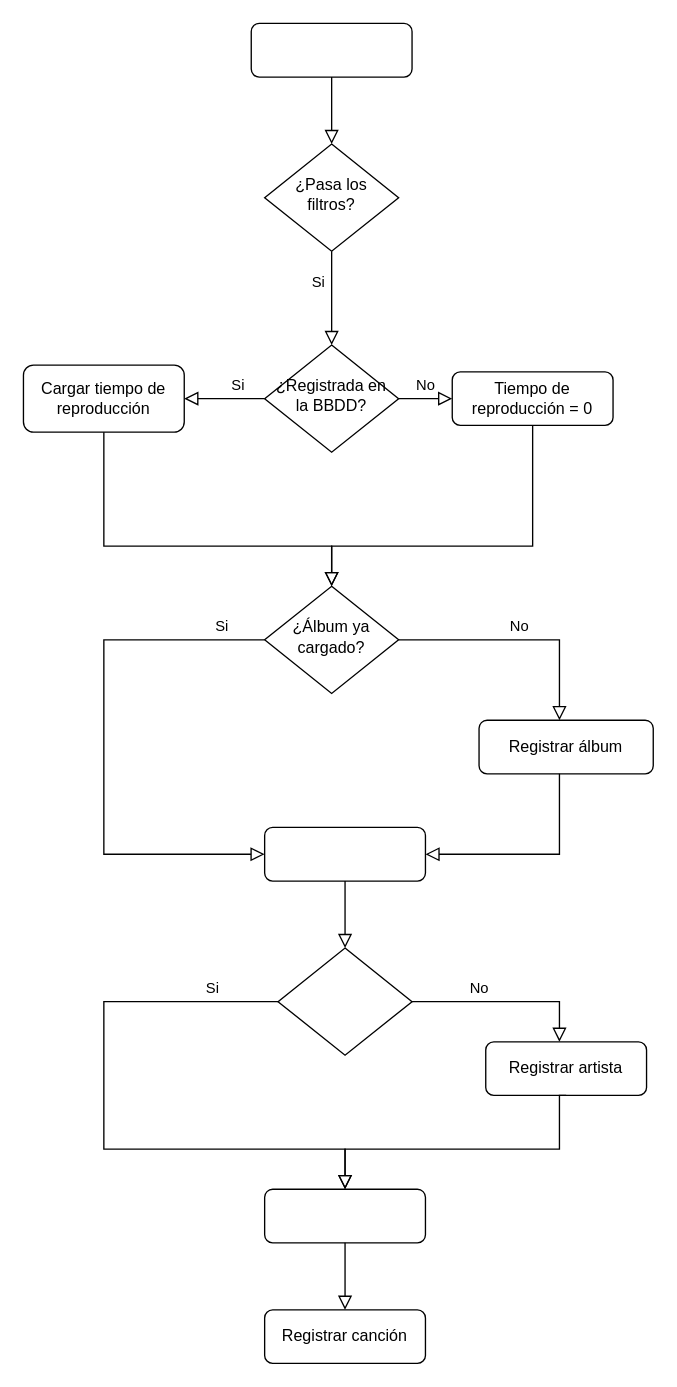
The diagram is 677 pixels wide and 1387 high, and some of its shapes have lost their labels. The centre of each missing label's shape, as x and y in pixels:
"Asociar artista a álbum" belongs at [344,1215].
"Asociar canción a álbum" belongs at [344,853].
"Carga de canciones en dispositivo" belongs at [331,49].
"¿Artista registrado?" belongs at [344,1001].
